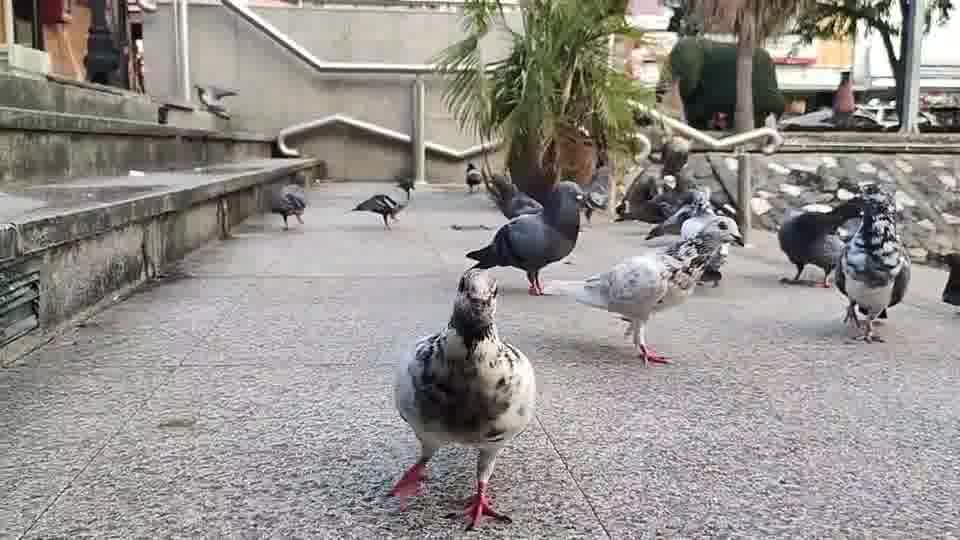Pigeon: (382, 265, 536, 531), (574, 214, 737, 368), (464, 137, 591, 296), (829, 193, 911, 343), (776, 186, 894, 288), (485, 171, 544, 220), (349, 193, 407, 230), (193, 83, 240, 120), (270, 183, 306, 230), (940, 251, 959, 309), (464, 162, 482, 193), (393, 175, 415, 200)
